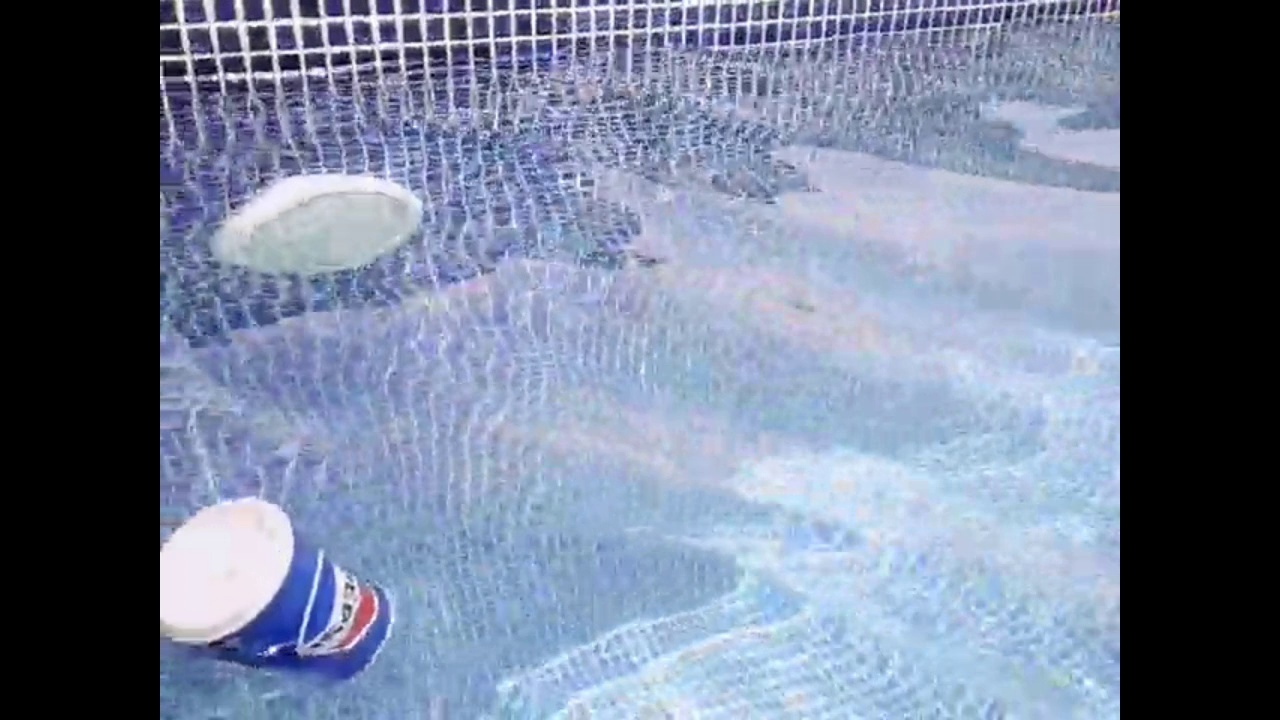debris: (160, 495, 404, 689)
